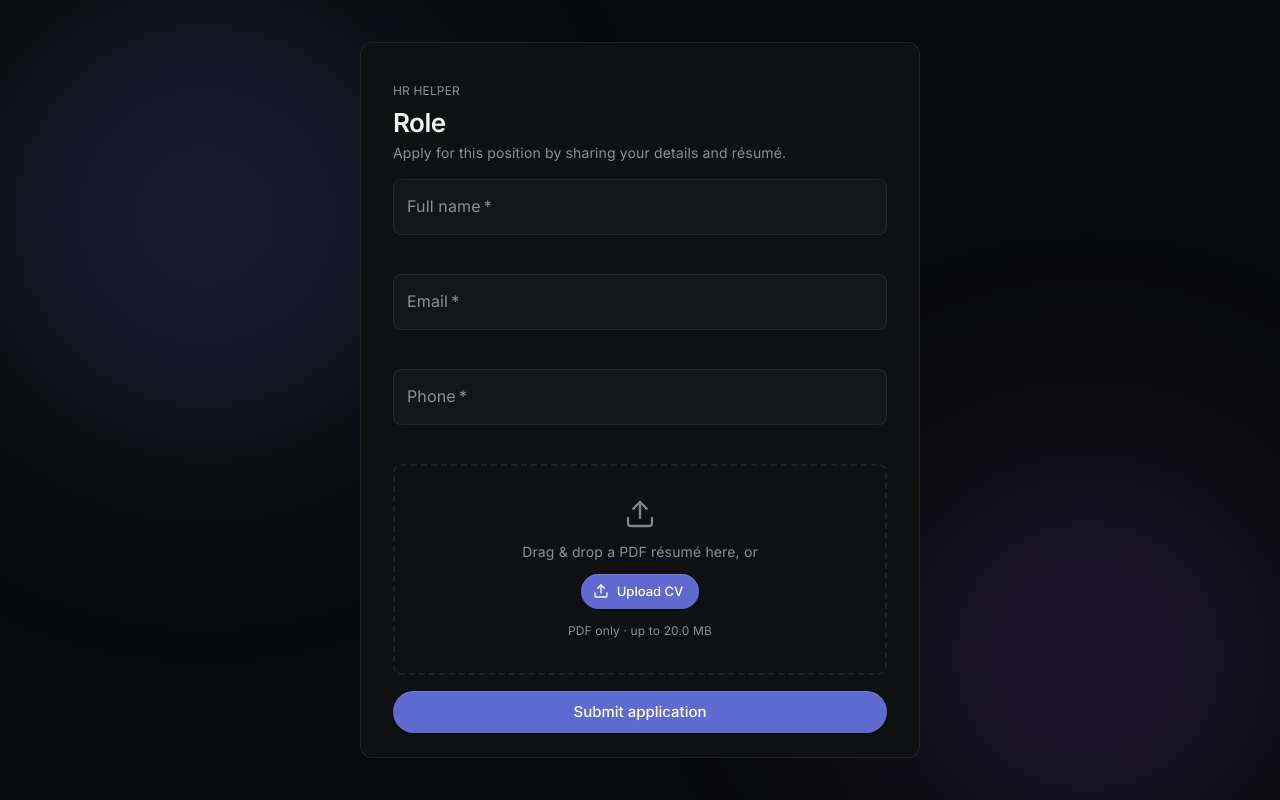
Scenario: PublicApplyPage › blocks submission and shows inline errors when fields are invalid
The image size is (1280, 800).
expect the heading "Role" is shown: met, box left=393, top=107, right=446, bottom=138
Note: Submit with everything empty → inline validation, no confirmation.
Click the button "Submit application": click(640, 712) left=393, top=691, right=887, bottom=733
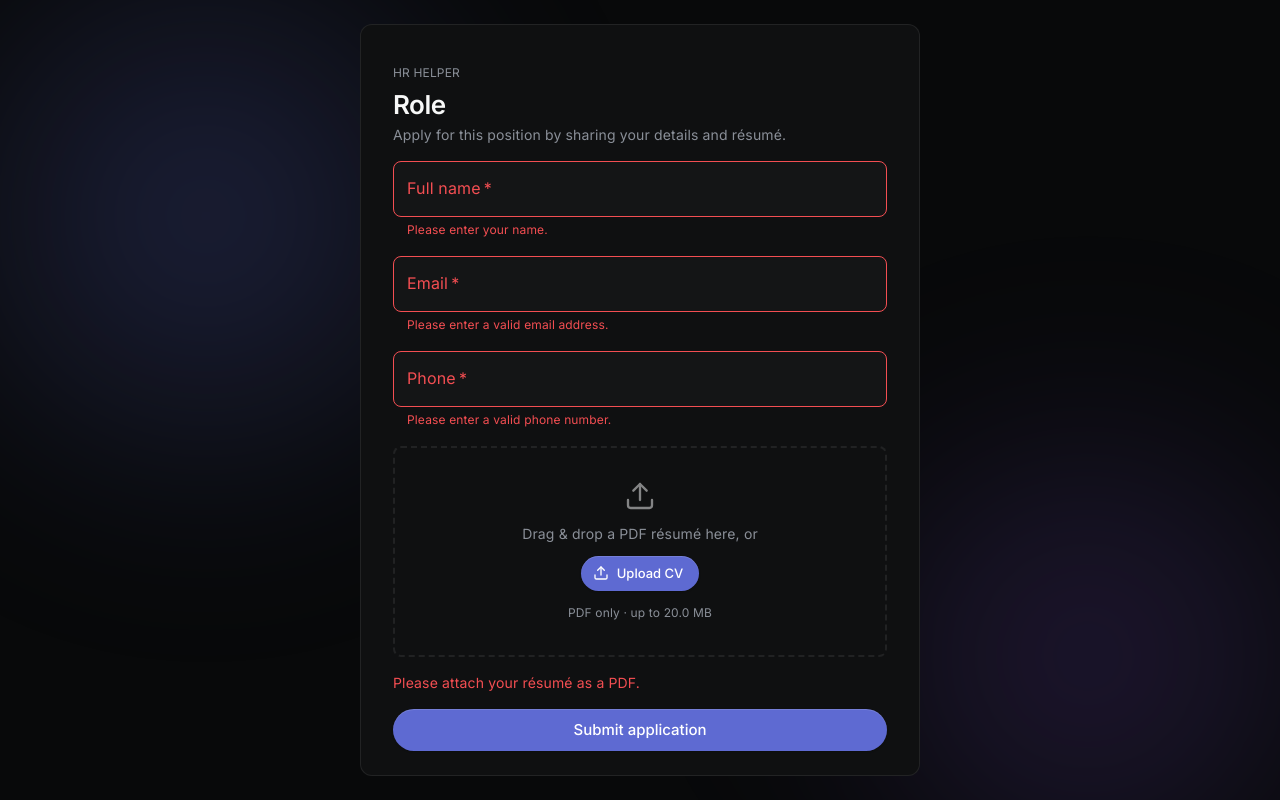
expect the text "Please enter a valid email address." is shown: met, box left=407, top=317, right=608, bottom=332
expect the text "Please attach your résumé as a PDF." is shown: met, box left=393, top=674, right=640, bottom=691
